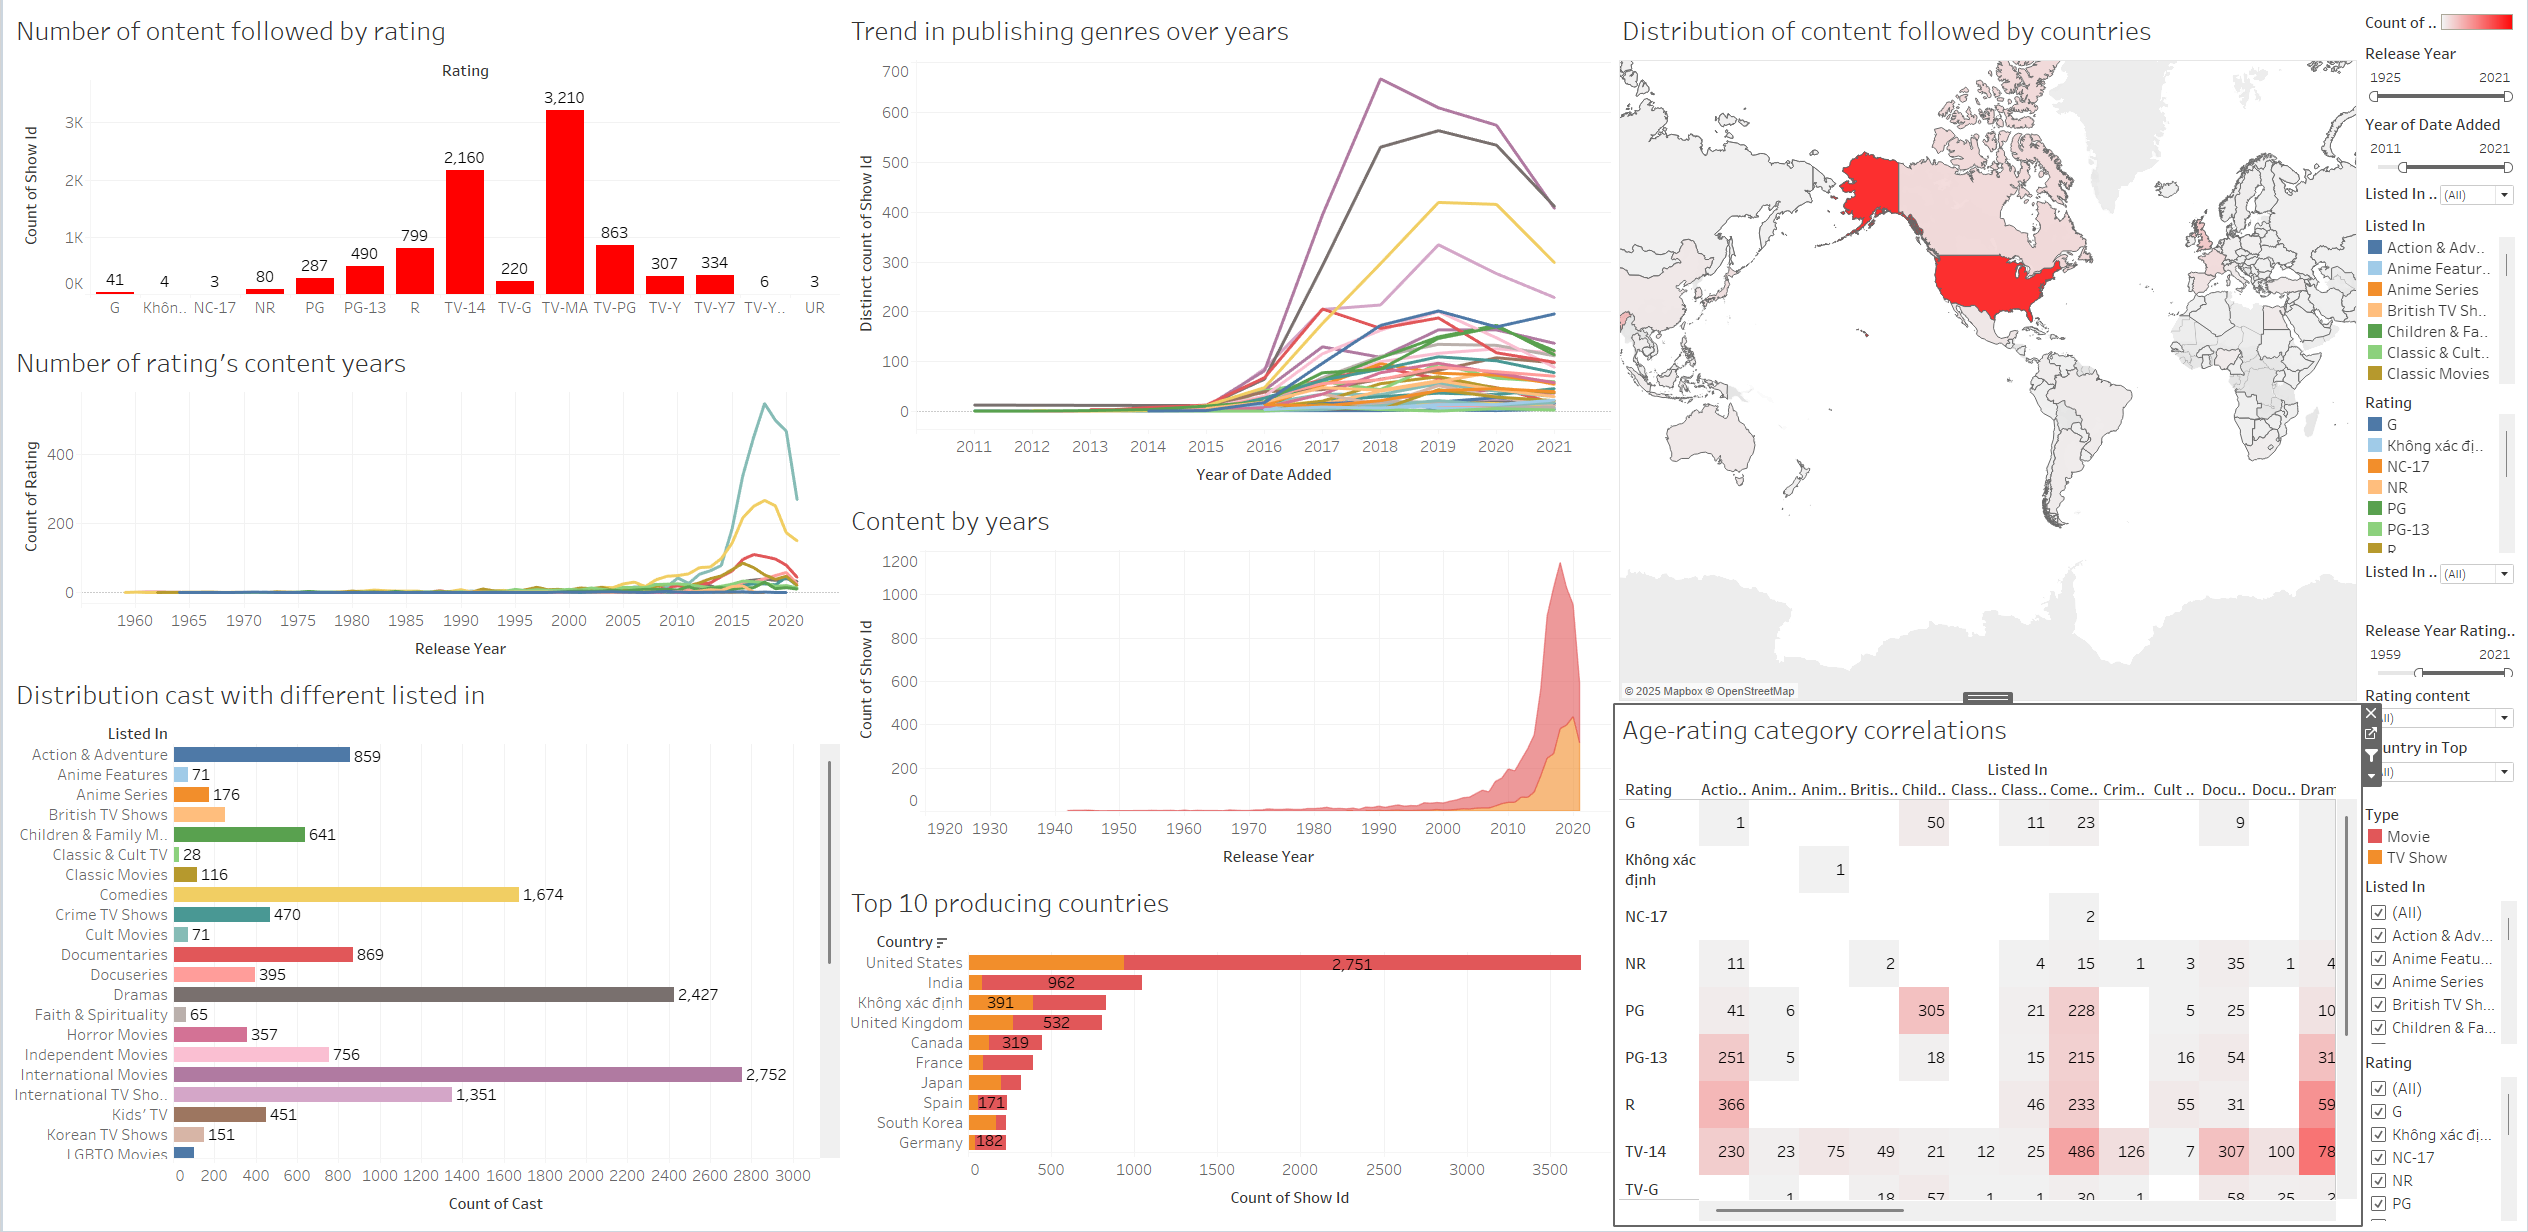

The page's visual inventory and layout, read from the dashboard file:
{"tool":"tableau","page":{"name":"Netflix Movies And TV Shows","canvas":[1000,1000],"units":"permille","ordinal":0},"visuals":[{"type":"worksheet","title":"Number of ontent followed by rating","mark":"Bar","rows":["show_id"],"cols":["rating"],"box":[4.7,8.8,318.3,267.7]},{"type":"worksheet","title":"Trend in publishing genres over years","mark":"Automatic","rows":["show_id"],"cols":["date_added"],"box":[323,8.8,294.3,394.9]},{"type":"worksheet","title":"Distribution of content followed by countries","mark":"Multipolygon","box":[617.3,8.8,284.4,563.1]},{"type":"legend","title":"Distribution of content followed by countries","param":"[federated.1158fgp1sp288v1axjkhb1919zxb].[cnt:show_id (netflix_titles_country_sp","box":[901.7,8.8,93.6,36.5]},{"type":"filter","title":"Content by years","param":"[federated.1158fgp1sp288v1axjkhb1919zxb].[none:release_year:qk]","box":[901.7,45.4,93.6,78.5]},{"type":"filter","title":"Trend in publishing genres over years","param":"[federated.1158fgp1sp288v1axjkhb1919zxb].[yr:date_added:qk]","box":[901.7,123.9,93.6,76.3]},{"type":"filter","title":"Trend in publishing genres over years","param":"[federated.1158fgp1sp288v1axjkhb1919zxb].[none:listed_in (netflix_titles_genres_","box":[901.7,200.2,93.6,35.4]},{"type":"legend","title":"Trend in publishing genres over years","param":"[federated.1158fgp1sp288v1axjkhb1919zxb].[none:listed_in (netflix_titles_genres_","box":[901.7,235.6,93.6,75.6]},{"type":"worksheet","title":"Number of rating's content years","mark":"Automatic","rows":["rating"],"cols":["release_year"],"box":[4.7,276.5,318.3,267.7]},{"type":"legend","title":"Number of rating's content years","param":"[federated.1158fgp1sp288v1axjkhb1919zxb].[none:rating:nk]","box":[901.7,311.2,93.6,187]},{"type":"worksheet","title":"Content by years","mark":"Area","rows":["show_id"],"cols":["release_year"],"box":[323,403.8,294.3,307.5]},{"type":"filter","title":"Distribution cast with different listed in","param":"[federated.1158fgp1sp288v1axjkhb1919zxb].[none:listed_in (netflix_titles_genres_","box":[901.7,498.2,93.6,65.3]},{"type":"worksheet","title":"Distribution cast with different listed in","mark":"Automatic","rows":["listed_in (netflix_titles_genres_split.csv)"],"cols":["cast"],"box":[4.7,544.2,318.3,446.9]},{"type":"filter","title":"Number of rating's content years","param":"[federated.1158fgp1sp288v1axjkhb1919zxb].[none:release_year:qk]","box":[901.7,563.4,93.6,71.9]},{"type":"worksheet","title":"Age-rating category correlations","mark":"Automatic","rows":["rating"],"cols":["listed_in (netflix_titles_genres_split.csv)"],"box":[617.3,571.9,284.4,419.2]},{"type":"filter","title":"Number of rating's content years","param":"[federated.1158fgp1sp288v1axjkhb1919zxb].[none:rating:nk]","box":[901.7,635.3,93.6,57.5]},{"type":"filter","title":"Top 10 producing countries","param":"[federated.1158fgp1sp288v1axjkhb1919zxb].[none:country (netflix_titles_country_s","box":[901.7,692.8,93.6,74.1]},{"type":"worksheet","title":"Top 10 producing countries","mark":"Automatic","rows":["country (netflix_titles_country_split.csv)"],"cols":["show_id"],"box":[323,711.3,294.3,279.9]},{"type":"legend","title":"Top 10 producing countries","param":"[federated.1158fgp1sp288v1axjkhb1919zxb].[none:type:nk]","box":[901.7,767,93.6,73]},{"type":"filter","title":"Age-rating category correlations","param":"[federated.1158fgp1sp288v1axjkhb1919zxb].[none:listed_in (netflix_titles_genres_","box":[901.7,840,93.6,75.6]},{"type":"filter","title":"Age-rating category correlations","param":"[federated.1158fgp1sp288v1axjkhb1919zxb].[none:rating:nk]","box":[901.7,915.6,93.6,75.6]}]}

Visuals, with their boxes on the dashboard's canvas, which has no fixed pixel size, in thousandths of its width and height (x1, y1, x2, y2). These are canvas units, not pixel positions in the 2528x1232 screenshot, which may show the page scaled, cropped or inside an application window:
"Number of ontent followed by rating" worksheet (Bar marks): bbox(5, 9, 323, 276)
"Trend in publishing genres over years" worksheet: bbox(323, 9, 617, 404)
"Distribution of content followed by countries" worksheet (Multipolygon marks): bbox(617, 9, 902, 572)
"Distribution of content followed by countries" legend: bbox(902, 9, 995, 45)
"Content by years" filter: bbox(902, 45, 995, 124)
"Trend in publishing genres over years" filter: bbox(902, 124, 995, 200)
"Trend in publishing genres over years" filter: bbox(902, 200, 995, 236)
"Trend in publishing genres over years" legend: bbox(902, 236, 995, 311)
"Number of rating's content years" worksheet: bbox(5, 276, 323, 544)
"Number of rating's content years" legend: bbox(902, 311, 995, 498)
"Content by years" worksheet (Area marks): bbox(323, 404, 617, 711)
"Distribution cast with different listed in" filter: bbox(902, 498, 995, 564)
"Distribution cast with different listed in" worksheet: bbox(5, 544, 323, 991)
"Number of rating's content years" filter: bbox(902, 563, 995, 635)
"Age-rating category correlations" worksheet: bbox(617, 572, 902, 991)
"Number of rating's content years" filter: bbox(902, 635, 995, 693)
"Top 10 producing countries" filter: bbox(902, 693, 995, 767)
"Top 10 producing countries" worksheet: bbox(323, 711, 617, 991)
"Top 10 producing countries" legend: bbox(902, 767, 995, 840)
"Age-rating category correlations" filter: bbox(902, 840, 995, 916)
"Age-rating category correlations" filter: bbox(902, 916, 995, 991)
